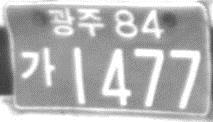1: (70, 44, 88, 106)
4: (99, 46, 133, 108), (141, 8, 165, 40)
7: (168, 48, 202, 110), (132, 47, 165, 108)
8: (113, 8, 139, 39)
가: (18, 46, 56, 88)
광주_O: (47, 7, 105, 37)
